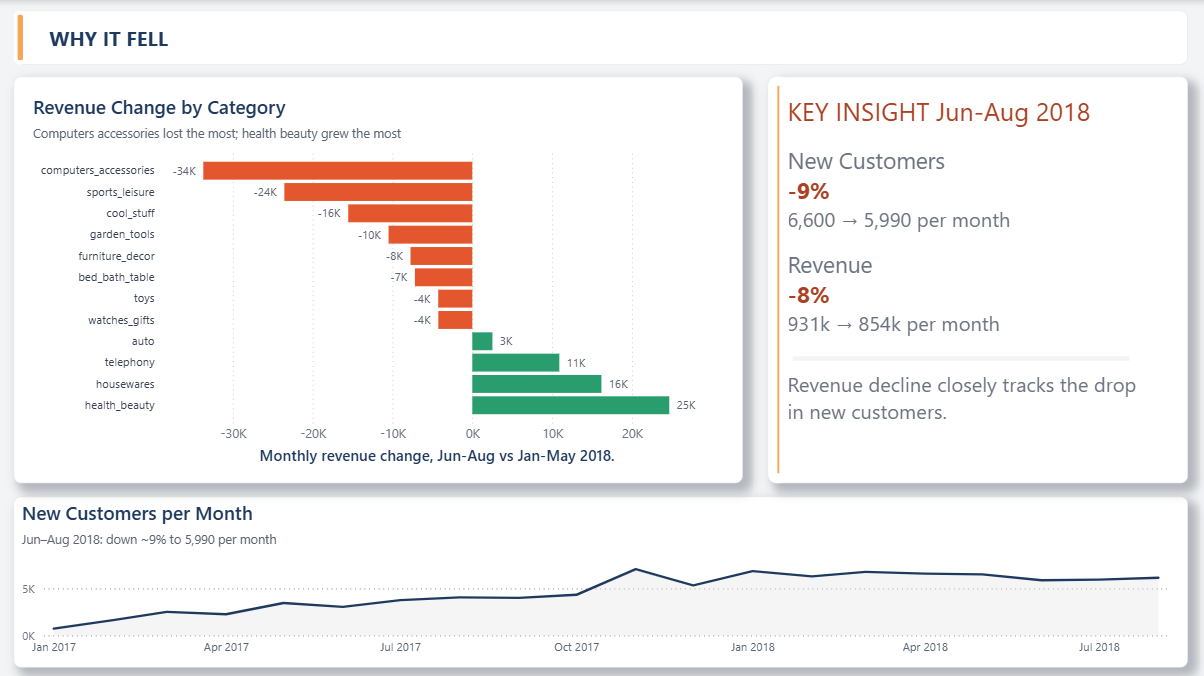

The page's visual inventory and layout, read from the dashboard file:
{"tool":"powerbi","page":{"name":"Why it fell","canvas":[1280,720],"ordinal":1},"visuals":[{"type":"areaChart","title":"New Customers per Month","fields":{"Category":["dim_date.Month.Variation.Date Hierarchy.Year"],"Y":["_Measures.New Customers"]},"box":[17.5,526.5,1245.4,181.3],"z":0},{"type":"textbox","box":[817.6,81.1,445.4,431.1],"z":1000},{"type":"clusteredBarChart","title":"Revenue Change by Category","fields":{"Y":["_Measures.Cat Rev Change"],"Category":["fact_items.category"]},"box":[17.5,81.1,773,431.1],"z":2000},{"type":"shape","box":[839.8,373.8,365.8,12.7],"z":3000},{"type":"shape","box":[817.6,81.1,22.3,431.1],"z":4000},{"type":"textbox","box":[17.5,11.1,1245.4,57.3],"z":5000},{"type":"shape","box":[17.5,11.1,14.3,57.3],"z":6000}]}

Visuals, with their boxes in screenshot pixels (x1, y1, x2, y2), scaled from the page's 1280x720 canvas onto the 1204x676 screenshot:
"New Customers per Month" areaChart: 16:494:1188:665
textbox: 769:76:1188:481
"Revenue Change by Category" clusteredBarChart: 16:76:744:481
shape: 790:351:1134:363
shape: 769:76:790:481
textbox: 16:10:1188:64
shape: 16:10:30:64
